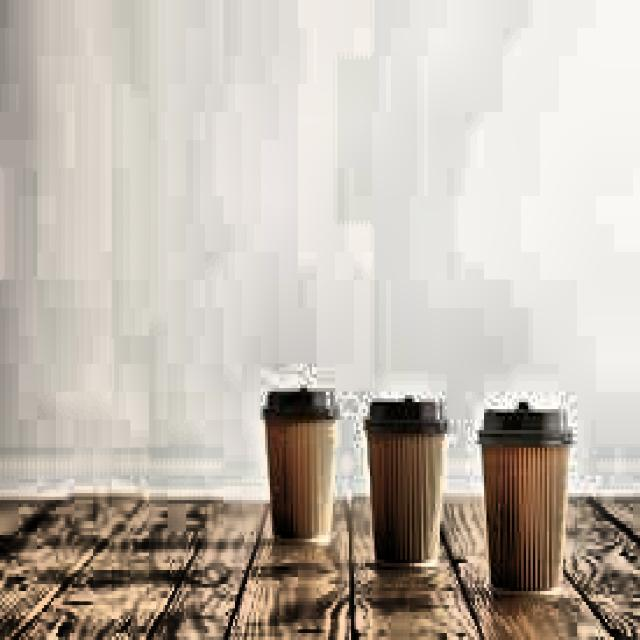Cup: (477, 416, 568, 598), (360, 403, 449, 578), (255, 398, 342, 551)
